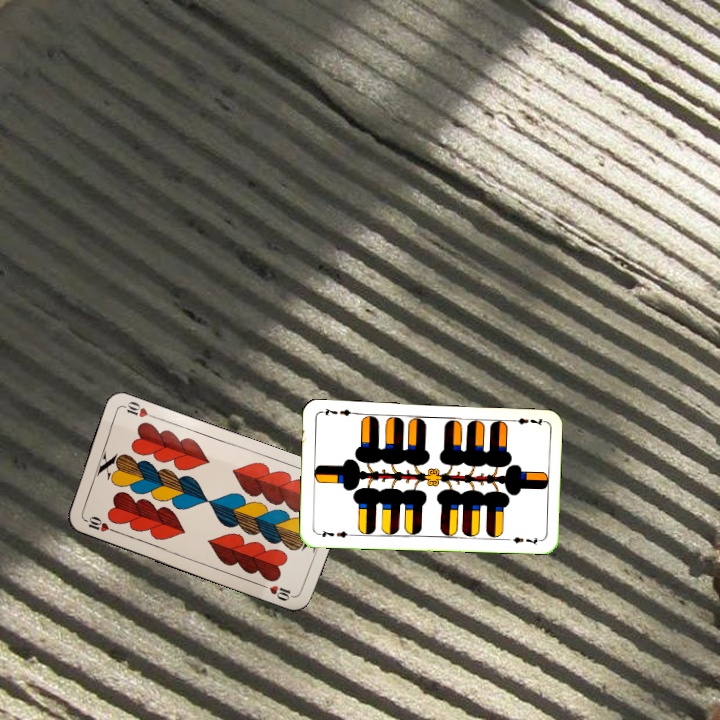E7: (314, 526, 354, 540), (506, 414, 546, 428)
H10: (79, 512, 119, 535)
